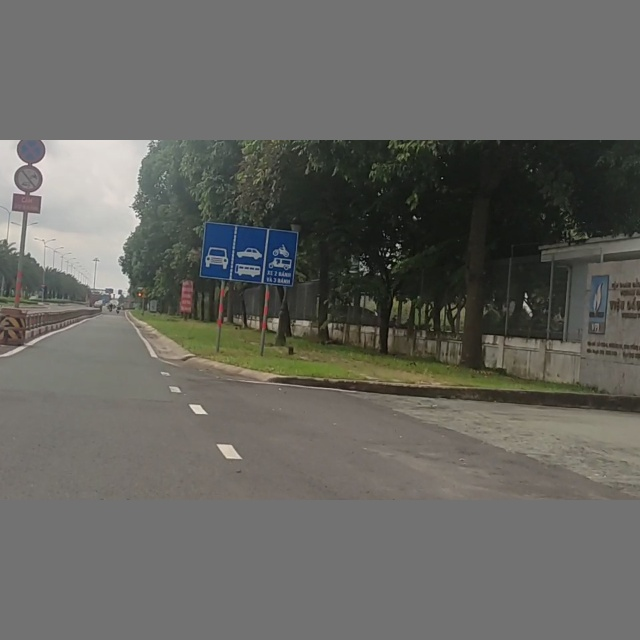P.111: (13, 163, 45, 194)
R.415a: (200, 223, 298, 288)
